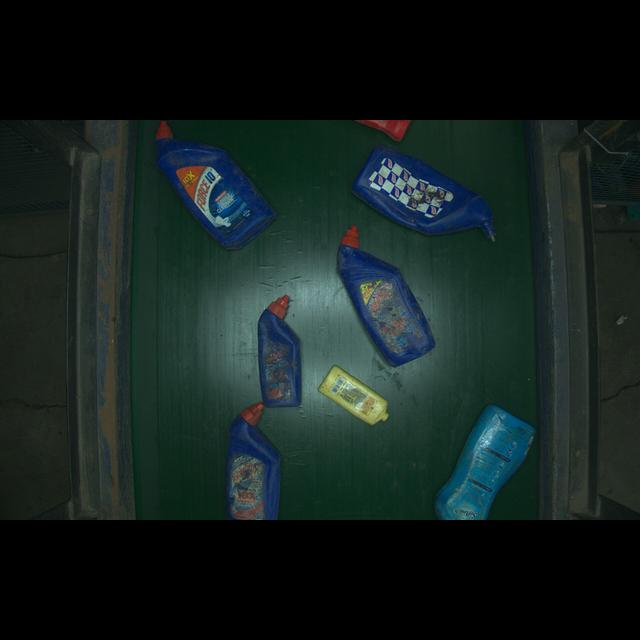mix hd: (318, 224, 470, 364), (135, 123, 297, 254), (337, 140, 518, 249), (220, 403, 289, 527), (247, 297, 320, 407)
